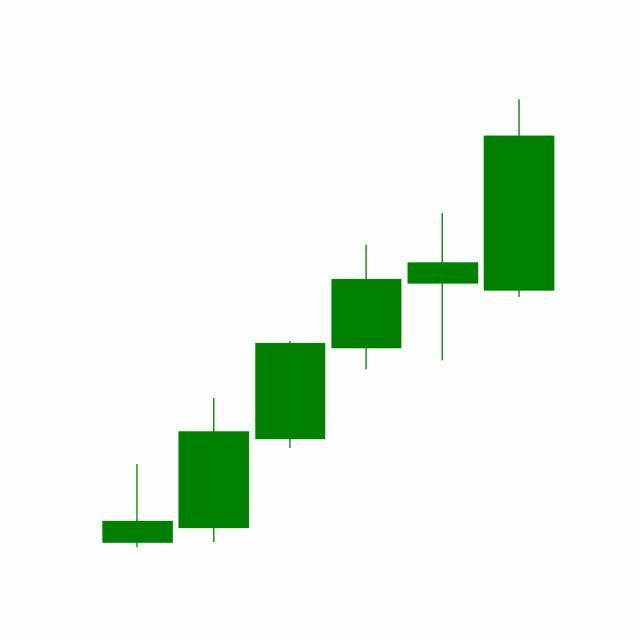Advance Block: (252, 210, 482, 452)
